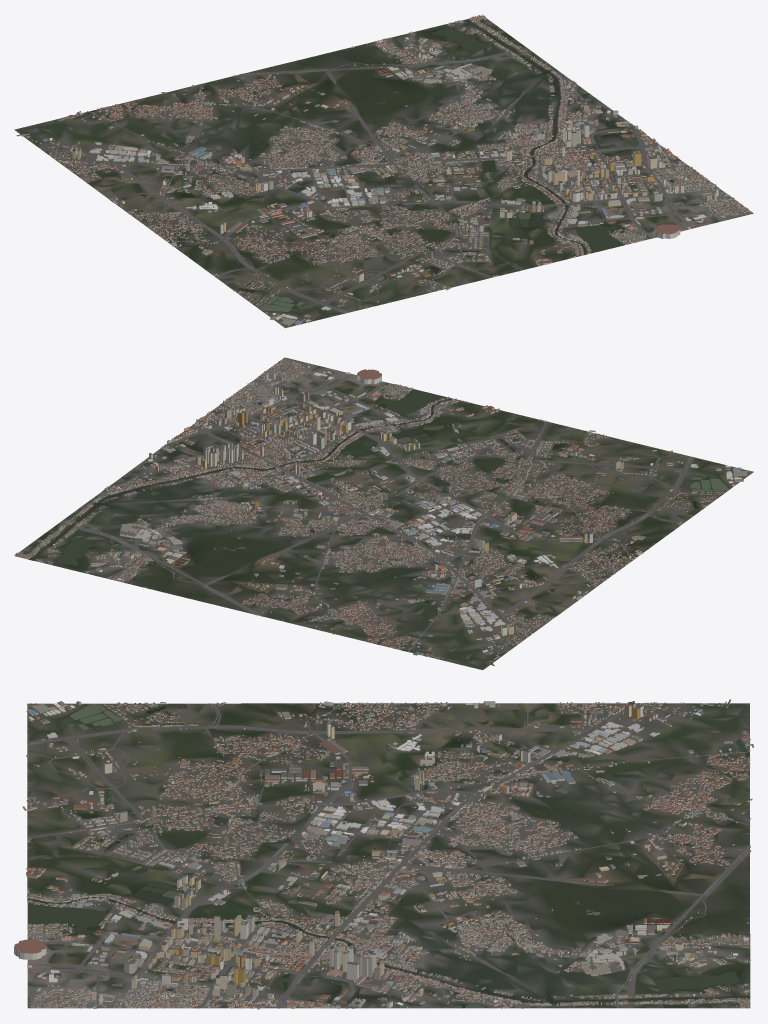
3 views of the same model, one above another, from view 1: azimuth 30°, elevation 25°; view 2: azimuth 150°, elevation 25°; view 3: azimuth 270°, elevation 25° (orthographic). The views are drawn at different scales.
Parts seen in each view (by area): view 1: ground, buildings, roads, water; view 2: ground, buildings, roads, water; view 3: ground, buildings, roads, water.
Part boxes in pixels (x1,y1,x2,y2): ground: (14,18,753,328); buildings: (16,14,750,326); roads: (55,28,730,327); water: (76,19,723,312); ground: (15,357,753,669); buildings: (14,358,749,665); roads: (25,363,752,651); water: (29,377,729,653); ground: (27,703,750,1008); buildings: (14,699,753,1009); roads: (27,703,750,1008); water: (27,703,749,1008).
Size of the model in its own units: 5681 by 210 by 5742.
